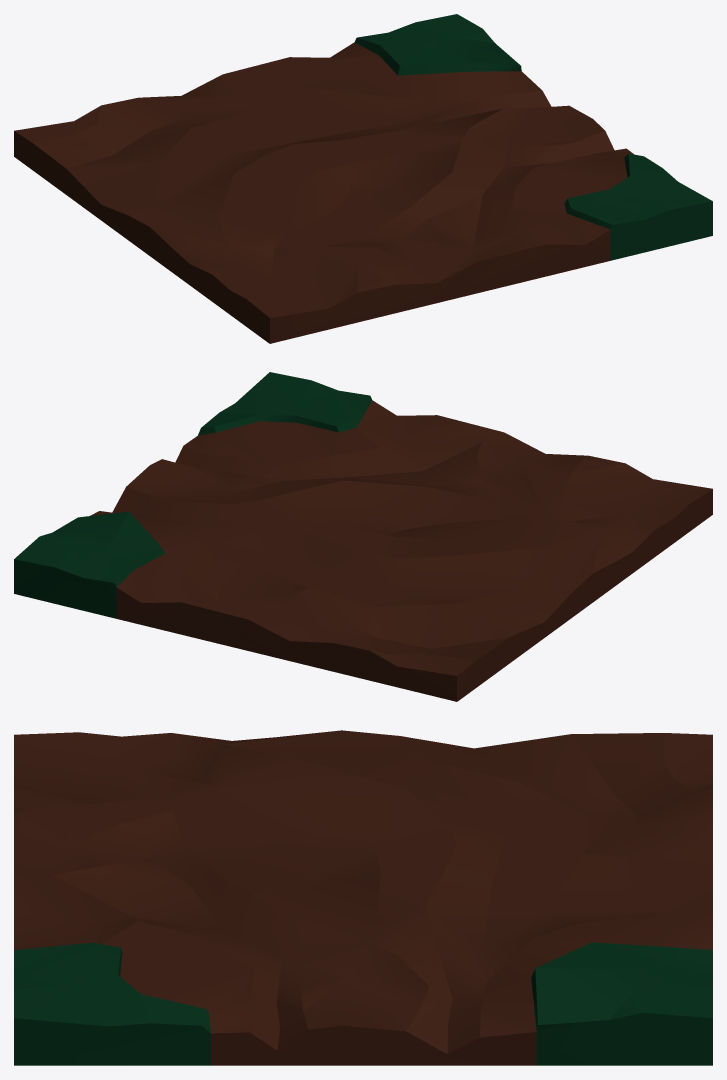
Rendered from Ground_Road_Entrance_R.fbx.
3 views of the same model, one above another, from view 1: azimuth 30°, elevation 25°; view 2: azimuth 150°, elevation 25°; view 3: azimuth 270°, elevation 25° (orthographic). The views are drawn at different scales.
Visible parts, largest first — view 1: Ground_Road_Entrance_R; view 2: Ground_Road_Entrance_R; view 3: Ground_Road_Entrance_R.
Part boxes in pixels (box(x1,y1,x2,y2)): Ground_Road_Entrance_R: box(14, 14, 712, 343); Ground_Road_Entrance_R: box(14, 372, 712, 701); Ground_Road_Entrance_R: box(14, 730, 712, 1065).
Size of the model in its own units: 147 by 14.83 by 147.
